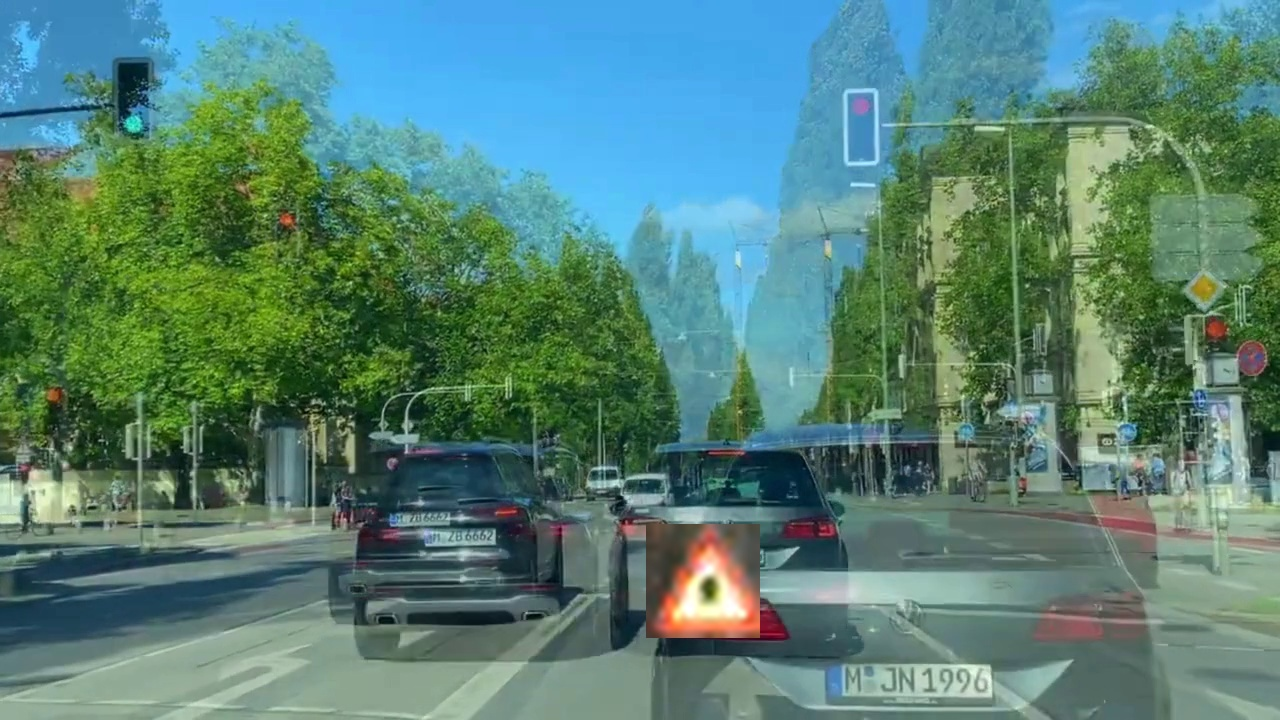Right-of-way: (646, 524, 760, 638)
